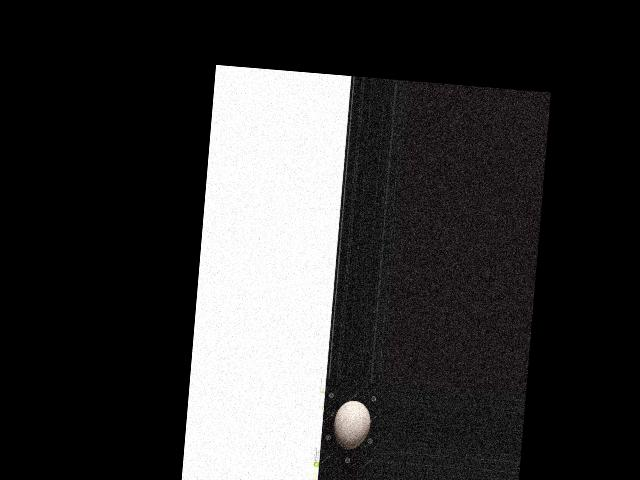egg: (331, 398, 371, 450)
